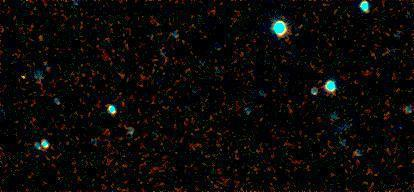star: (9, 64, 39, 94)
